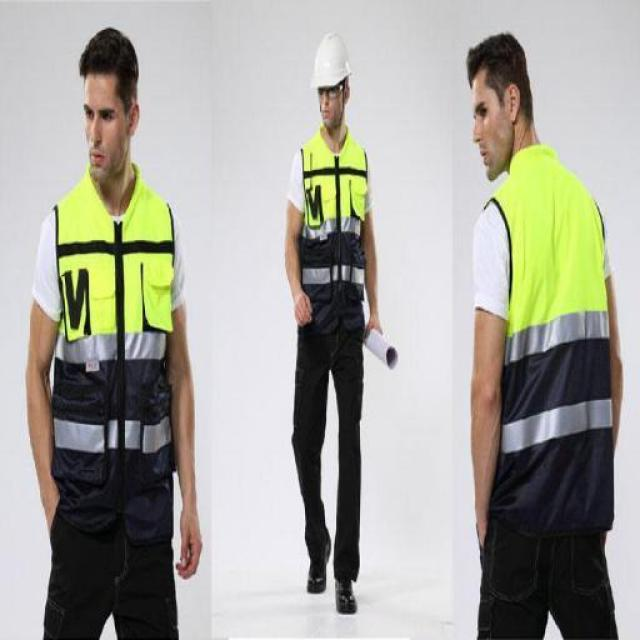vest: (492, 164, 624, 476), (56, 192, 172, 469), (300, 142, 370, 313)
